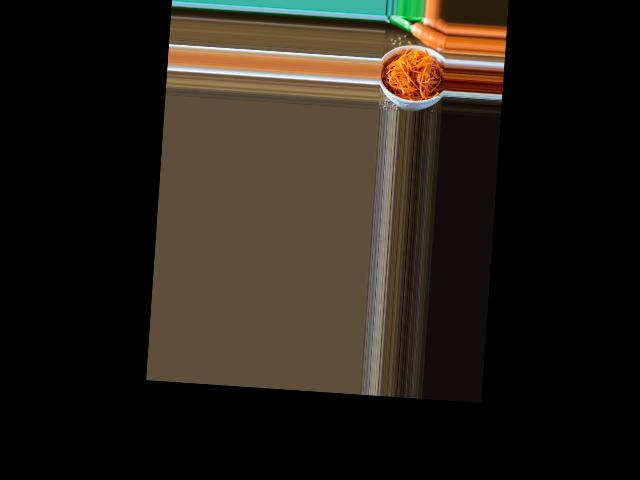carrot: (407, 23, 446, 47)
